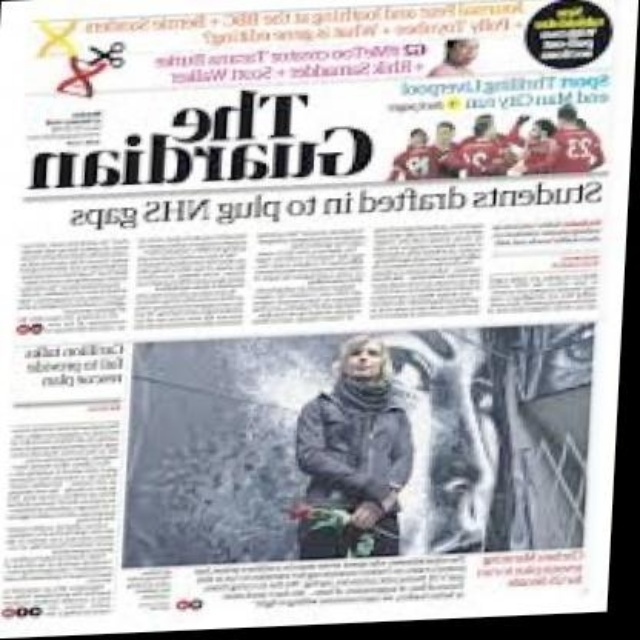trash: (0, 0, 635, 634)
